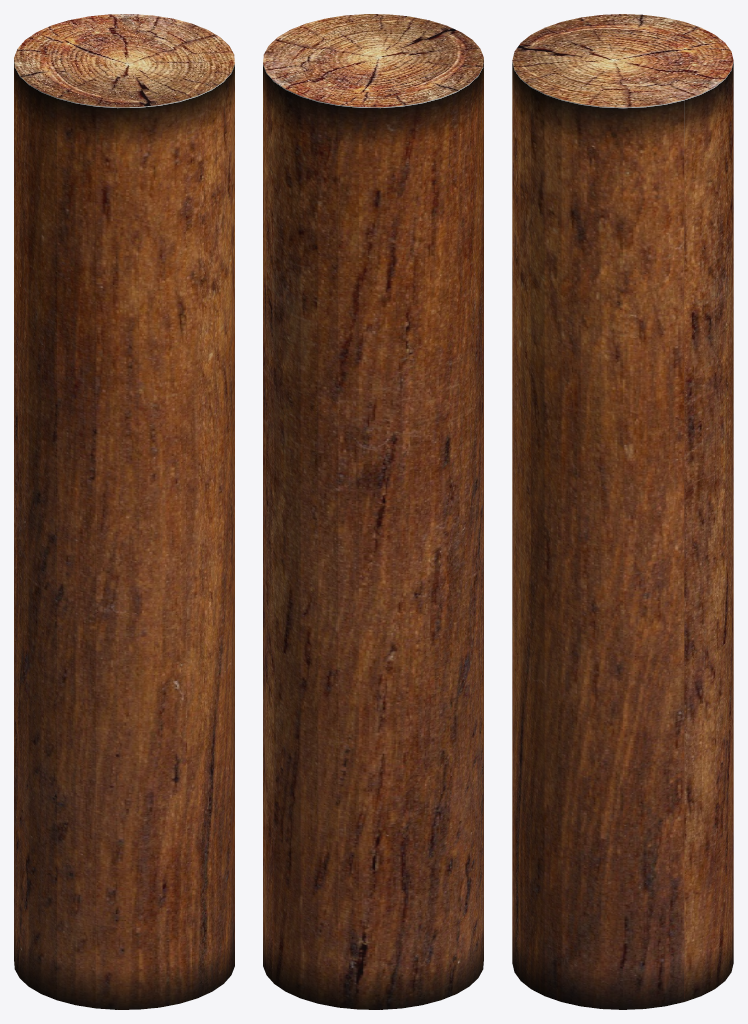
File: brus.obj
3 views of the same model, side by side, from view 1: azimuth 30°, elevation 25°; view 2: azimuth 150°, elevation 25°; view 3: azimuth 270°, elevation 25° (orthographic).
Bounding box in the file's own units: 0.2 × 0.9 × 0.2.
Materials: 1 (1 with a texture image).
